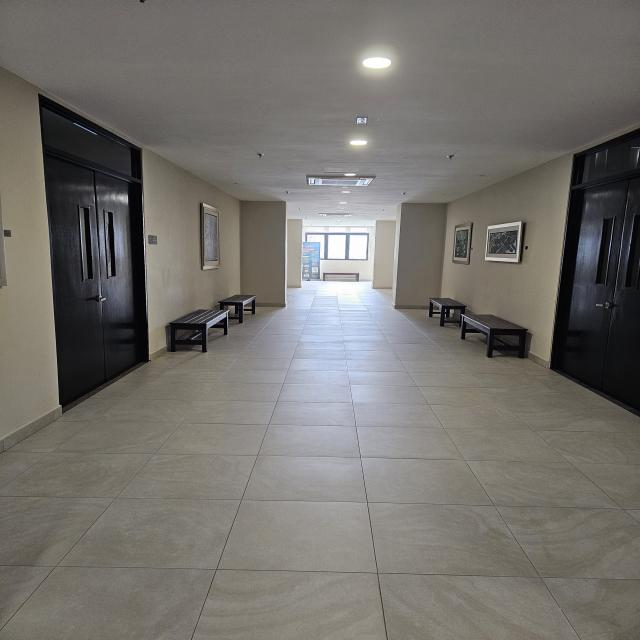door: (30, 149, 156, 389), (561, 175, 640, 414)
footpath: (125, 369, 558, 640)
obstacle: (452, 312, 539, 360), (166, 308, 228, 351)
